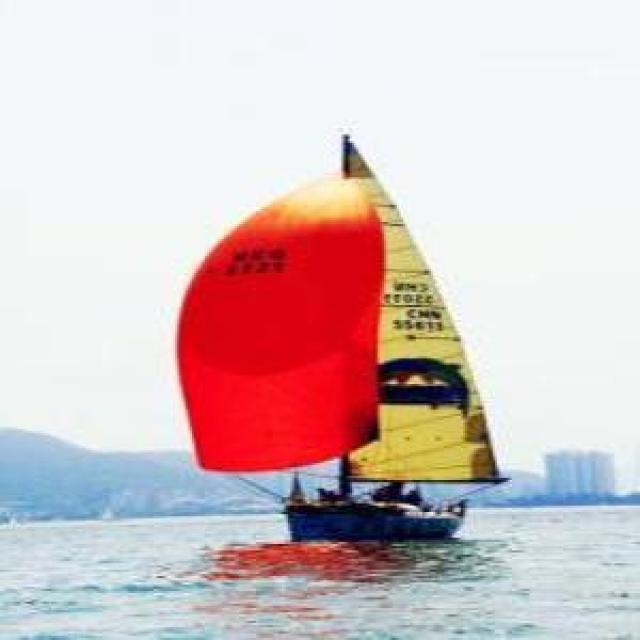sailboat: (184, 128, 500, 535)
